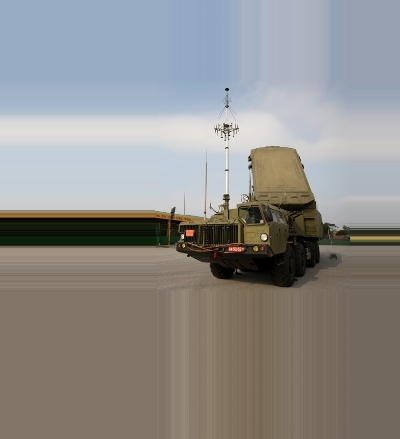plate: (225, 246, 246, 255)
